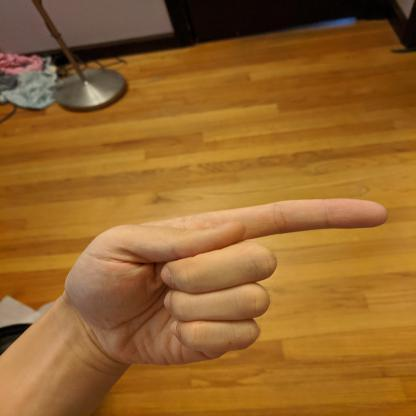G: (57, 194, 393, 369)
